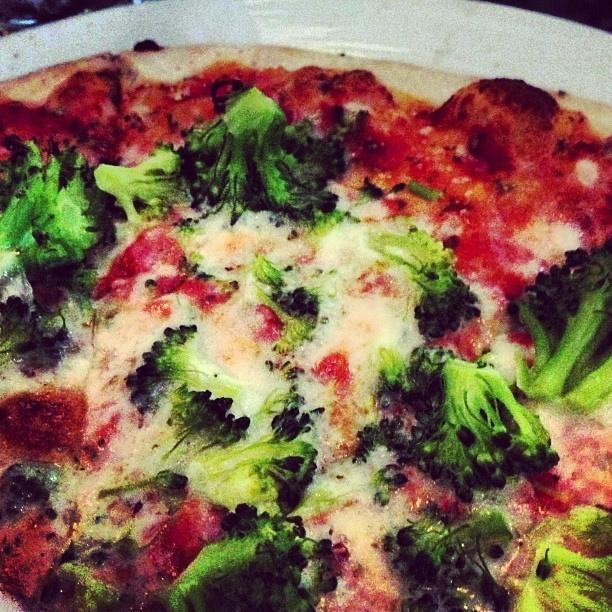broccoli: (179, 84, 347, 228), (419, 358, 560, 504), (156, 503, 336, 612), (507, 236, 612, 417), (0, 134, 118, 288), (367, 225, 481, 339), (204, 407, 318, 513), (382, 503, 512, 594), (507, 505, 612, 610), (144, 380, 250, 475), (94, 142, 194, 225), (0, 295, 81, 378), (126, 325, 198, 413), (256, 285, 319, 356), (0, 464, 49, 524), (56, 563, 117, 609)
